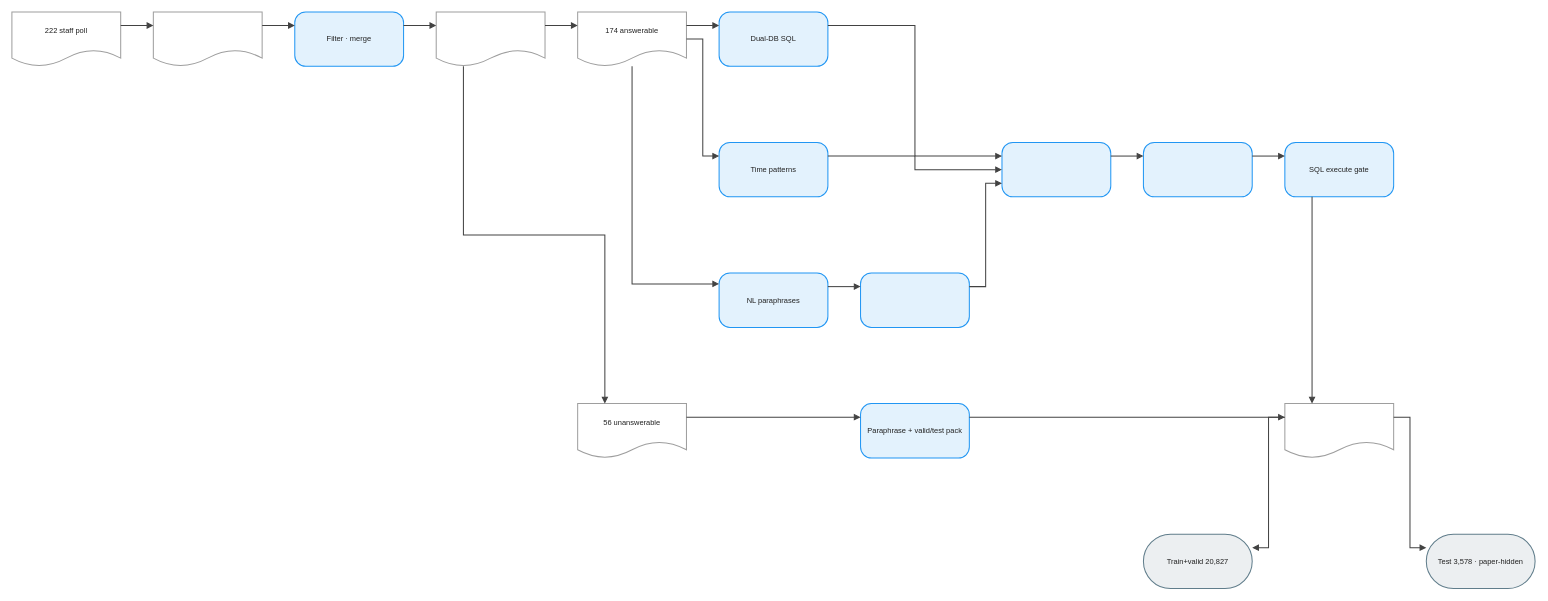
Image size: 1548x601. Some labels were removed from this diagram. Here are the shapes that lost their labels. From the top down, the centre of each, then its label:
At (x=207, y=39): "1,742 utterances".
At (x=490, y=39): "230 templates".
At (x=1056, y=169): "Merge answerable assets".
At (x=1197, y=169): "Fill actual values".
At (x=915, y=300): "Paraphrase QC".
At (x=1339, y=430): "Total ≈24K · 24,405".
